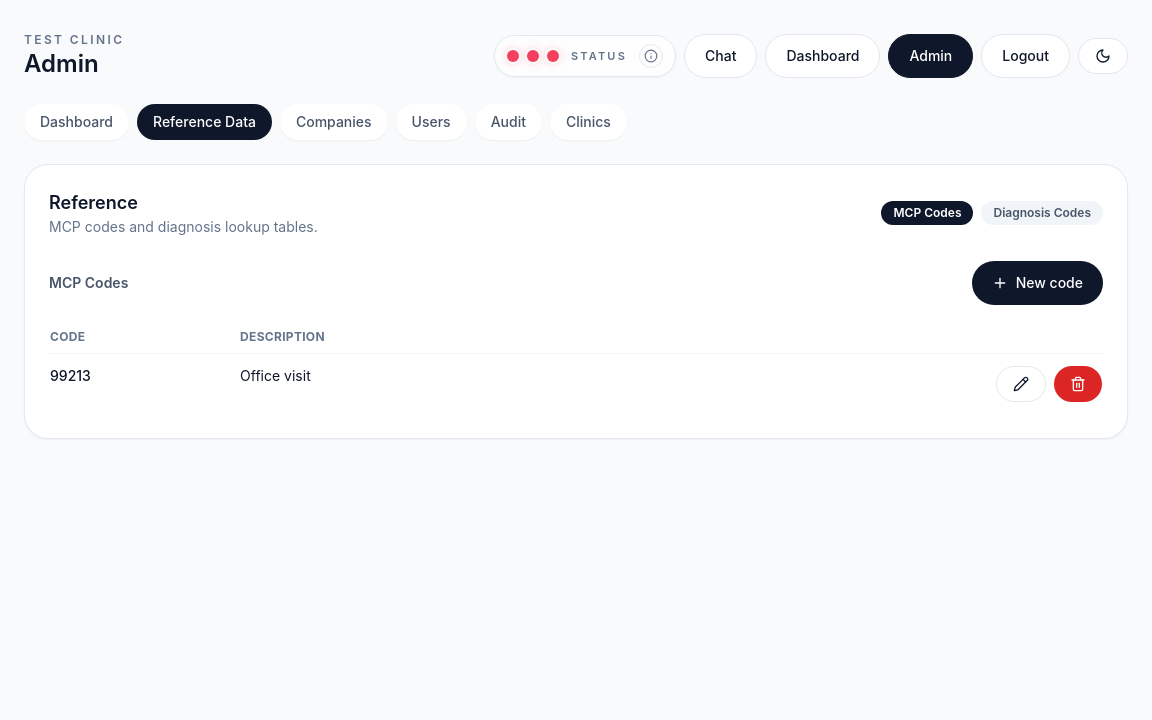
admin ui › reference tab loads mcp codes and create works
This screenshot has width=1152, height=720.
Expected: the heading "MCP Codes" is shown, [49, 273, 128, 293]
Expected: the text "99213" is shown, [50, 367, 91, 384]
Click the button "New code" at (1037, 283), box [972, 261, 1103, 305]
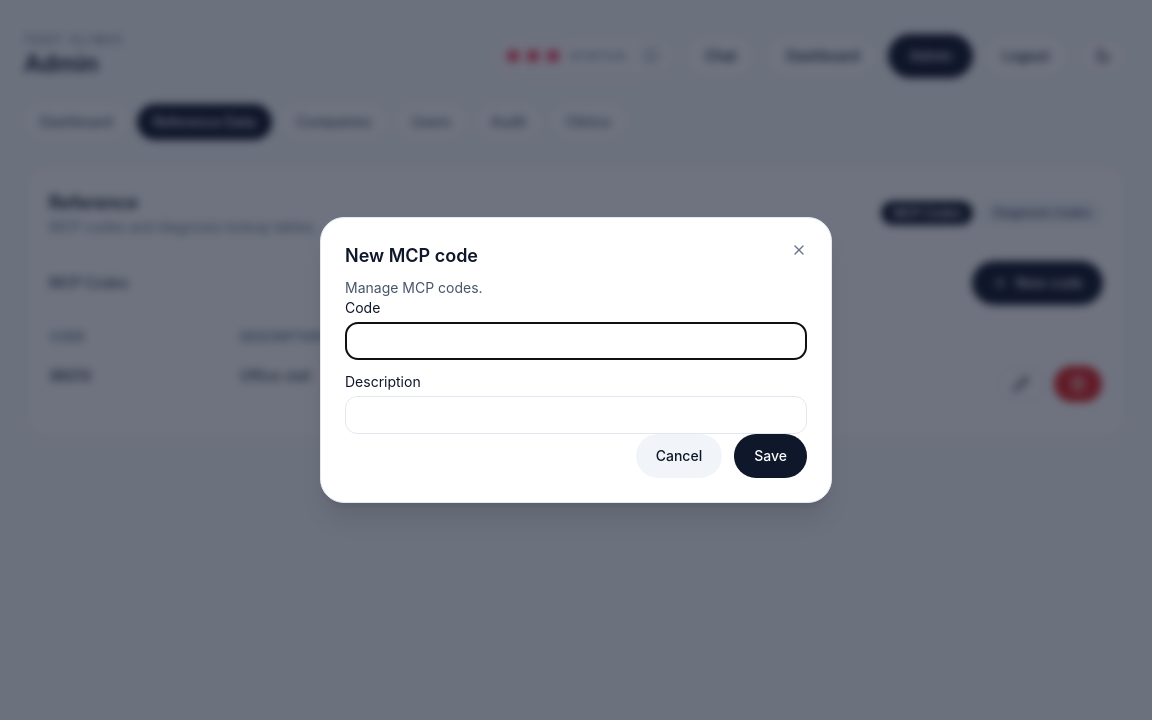
Type "99001" into the field labelled "Code" at (576, 341), box [345, 322, 807, 360]
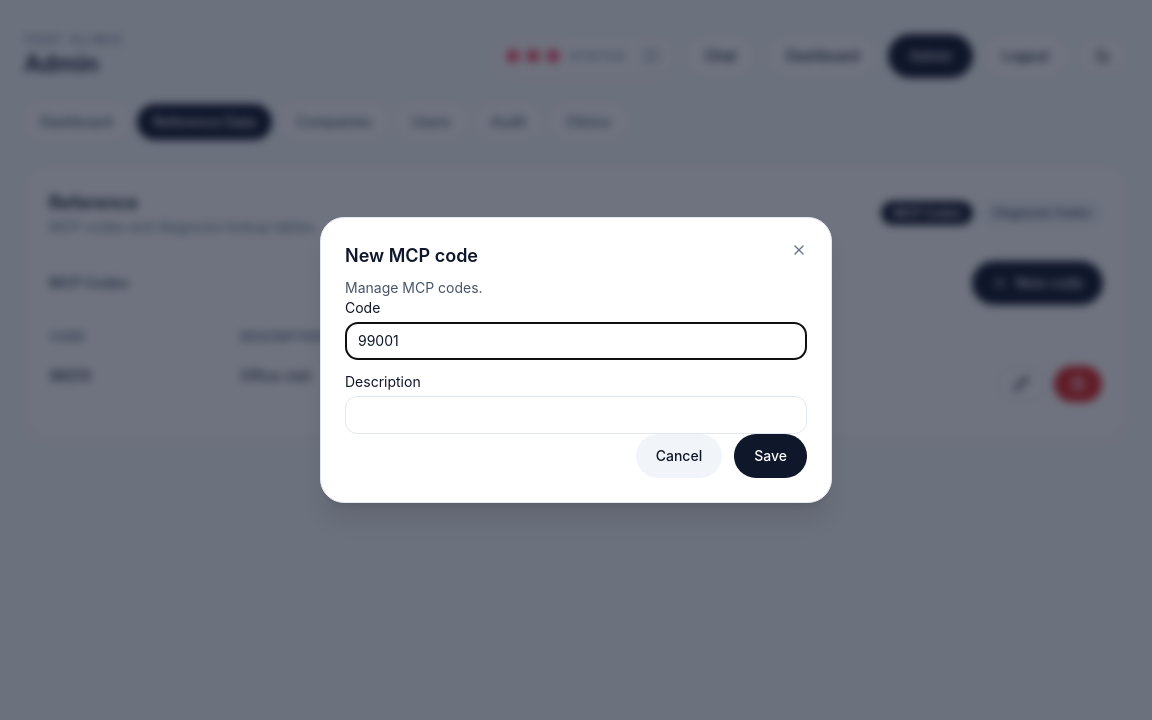
Type "Office visit ext" into the field labelled "Description" at (576, 415), box [345, 396, 807, 434]
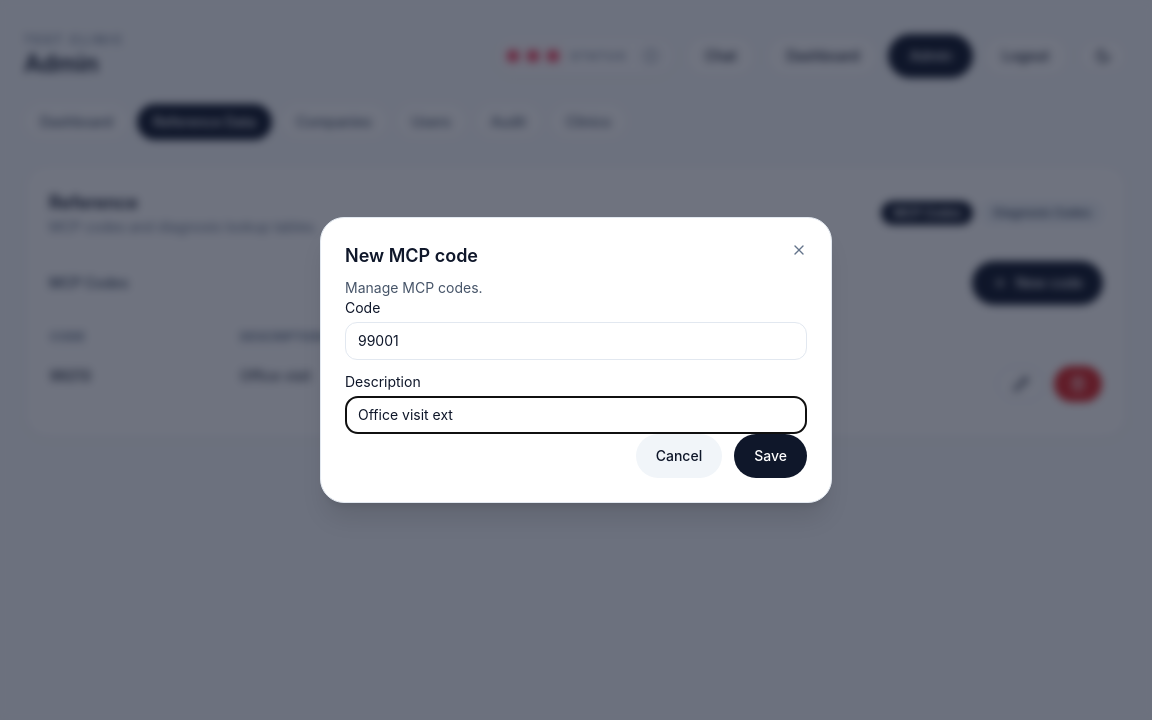
Click the button "Save" at (771, 456), box [734, 434, 807, 478]
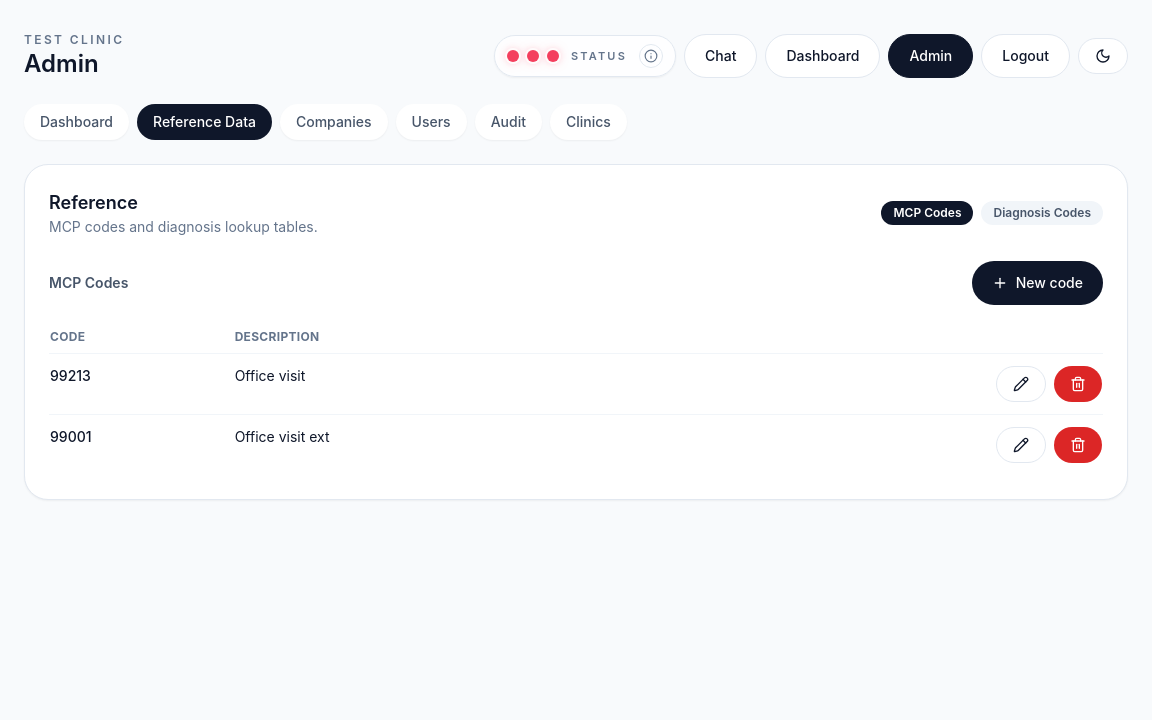
Now the text "99001" is shown, box [50, 428, 92, 445]
